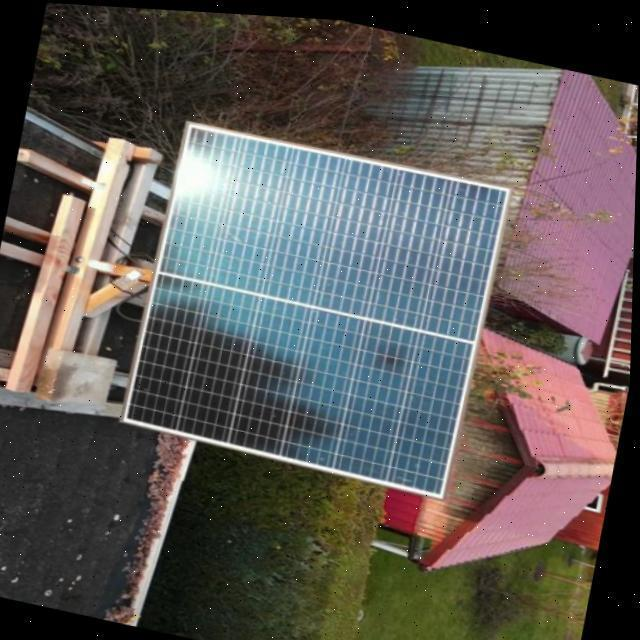Normal Solar Panel: (126, 112, 512, 496)
